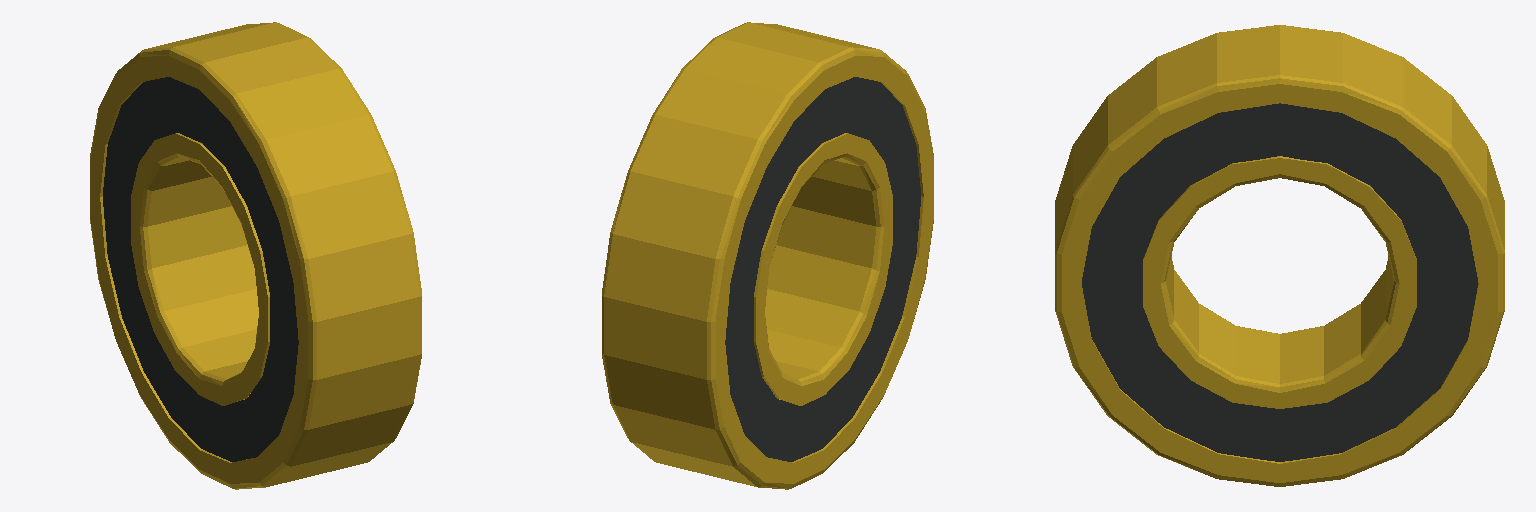
The picture shows the model from 3 angles: view 1: azimuth 30°, elevation 25°; view 2: azimuth 150°, elevation 25°; view 3: azimuth 270°, elevation 25°; orthographic projection.
Parts seen in each view (by area): view 1: [number redacted]; view 2: [number redacted]; view 3: [number redacted].
Part boxes in pixels (x1,y1,x2,y2): [number redacted]: (90,22,421,489); [number redacted]: (602,22,933,489); [number redacted]: (1055,25,1504,486).
Size of the model in its own units: 23 by 80 by 79.19.